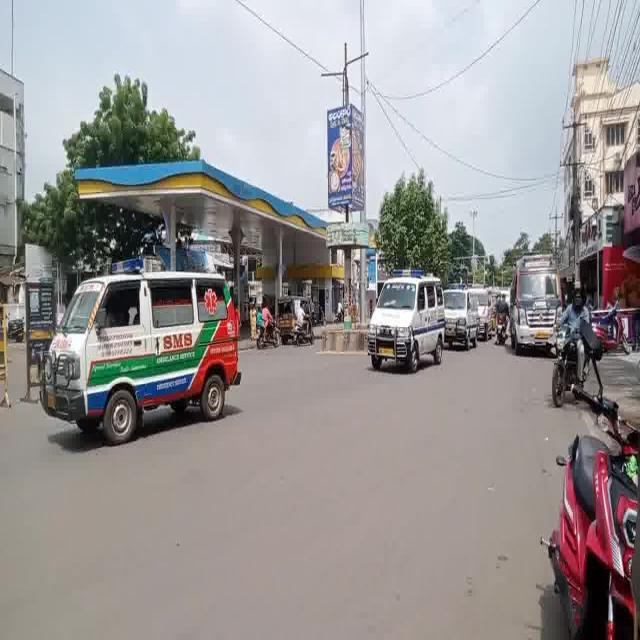ambulance: (366, 258, 444, 381), (508, 261, 566, 357), (447, 267, 469, 354), (478, 280, 493, 356)
